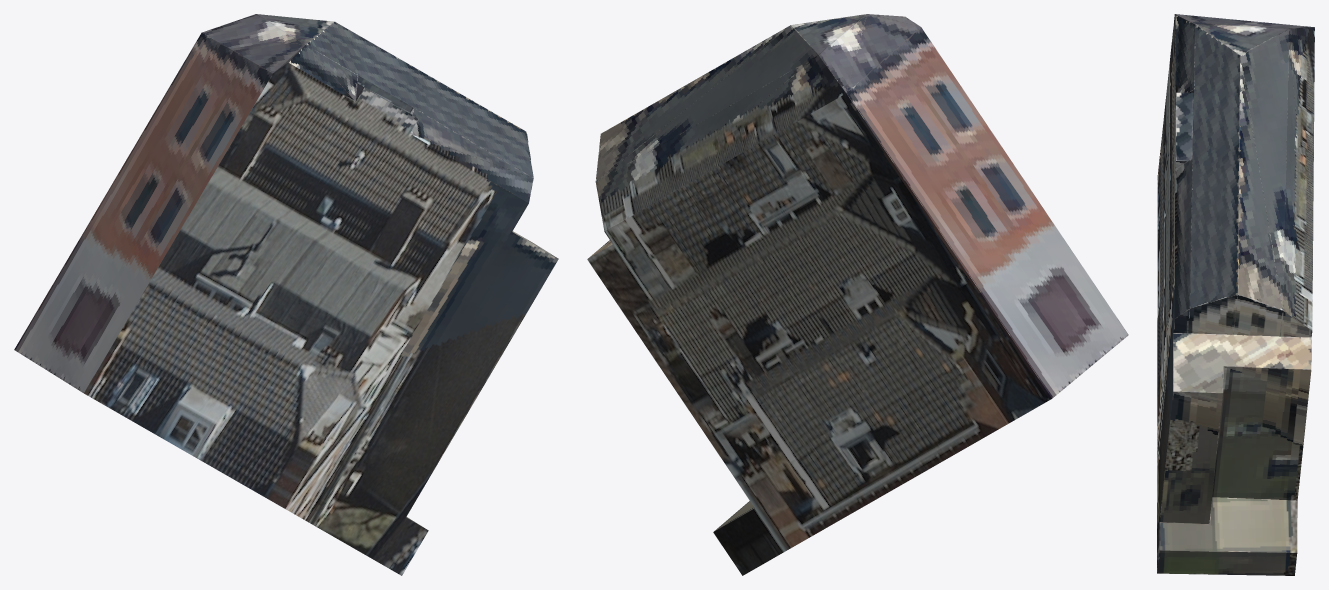
3 renders of one model, left to right at view 1: azimuth 30°, elevation 25°; view 2: azimuth 150°, elevation 25°; view 3: azimuth 270°, elevation 25°, orthographic. The views are drawn at different scales.
Visible parts, largest first — view 1: BAG_0599100000671708 (×4); view 2: BAG_0599100000671708 (×3); view 3: BAG_0599100000671708 (×4).
Boxes of the visible parts, left/top/right/bottom form: BAG_0599100000671708 (×4): left=14, top=14, right=558, bottom=575; BAG_0599100000671708 (×3): left=587, top=14, right=1128, bottom=575; BAG_0599100000671708 (×4): left=1157, top=14, right=1314, bottom=575.
Size of the model in its own units: 19.11 by 20.34 by 5.62.
4 materials, 4 textured.
